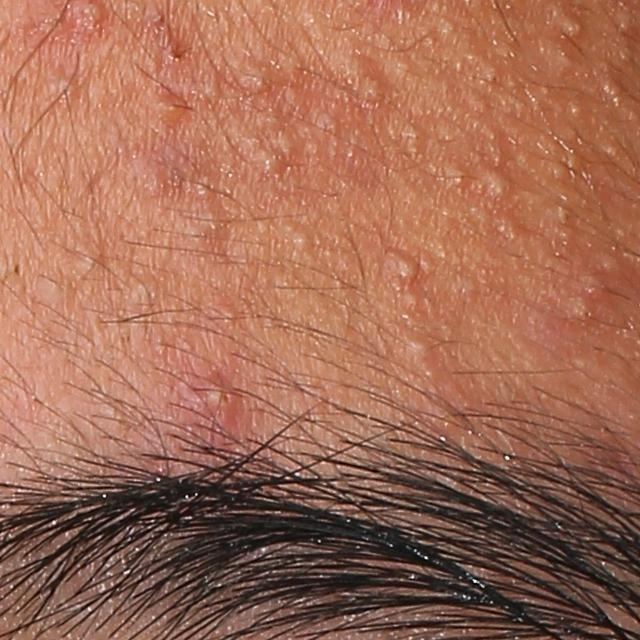comedo: (281, 220, 320, 256), (240, 63, 277, 100), (567, 293, 601, 330), (247, 147, 283, 181), (478, 169, 511, 206), (550, 7, 587, 40), (355, 67, 386, 106), (389, 255, 422, 286), (398, 121, 431, 152), (593, 253, 627, 281), (560, 96, 590, 127), (407, 336, 435, 369), (472, 60, 502, 90), (52, 73, 85, 99), (600, 75, 625, 106), (78, 251, 108, 276)
